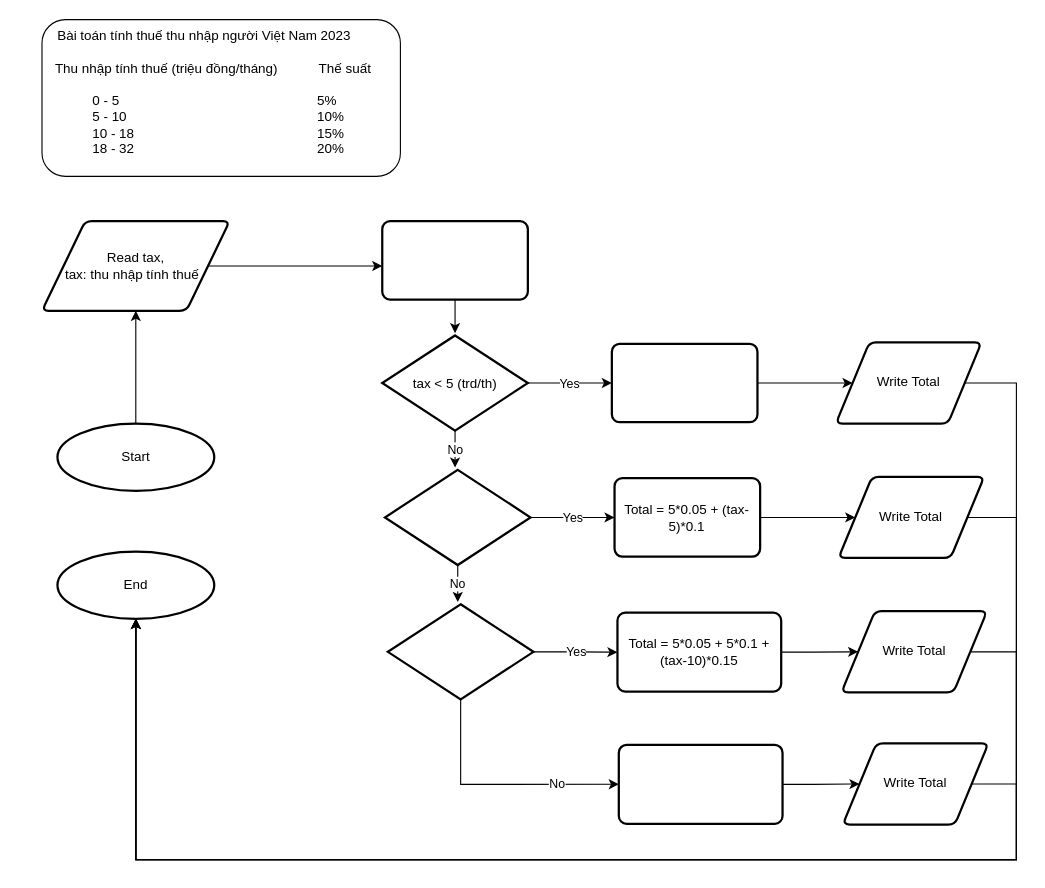
The diagram is 1045 pixels wide and 888 high, and some of its shapes have lost their labels. The centre of each missing label's shape, as x and y in pixels:
"tax < 10 (trd/th)" belongs at point (457, 517).
"tax < 18 (trd/th)" belongs at point (460, 651).
"Total = 0" belongs at point (454, 260).
"Total = 5*0.05 + 5*0.1 + 8*0.15 + (tax-18)*0.2" belongs at point (700, 783).
"Total = tax*0.95" belongs at point (684, 382).
